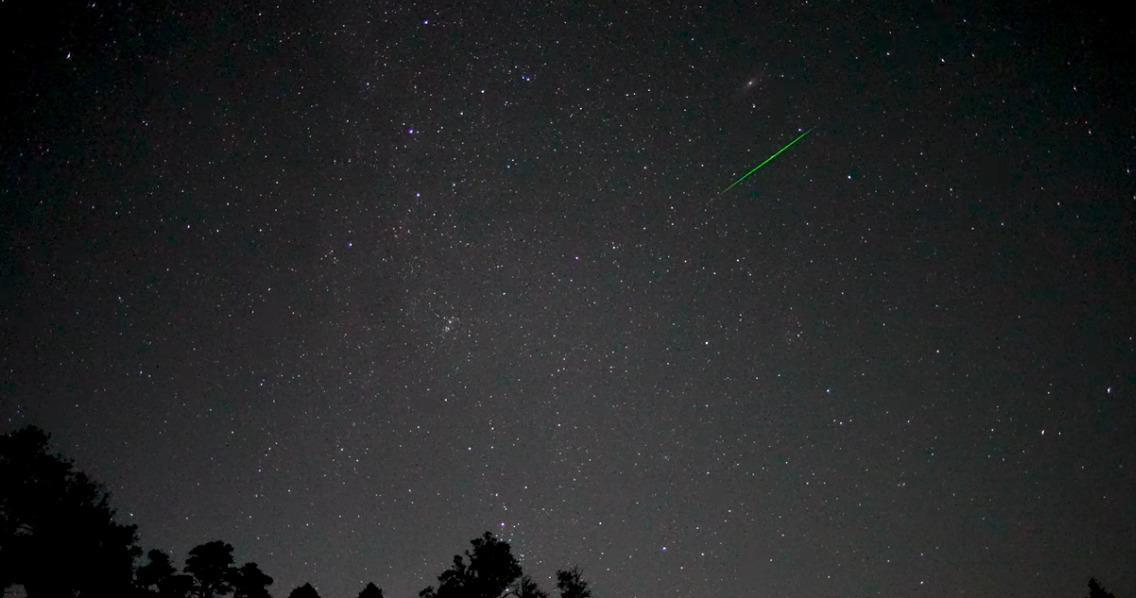meteorite: (700, 124, 842, 192)
